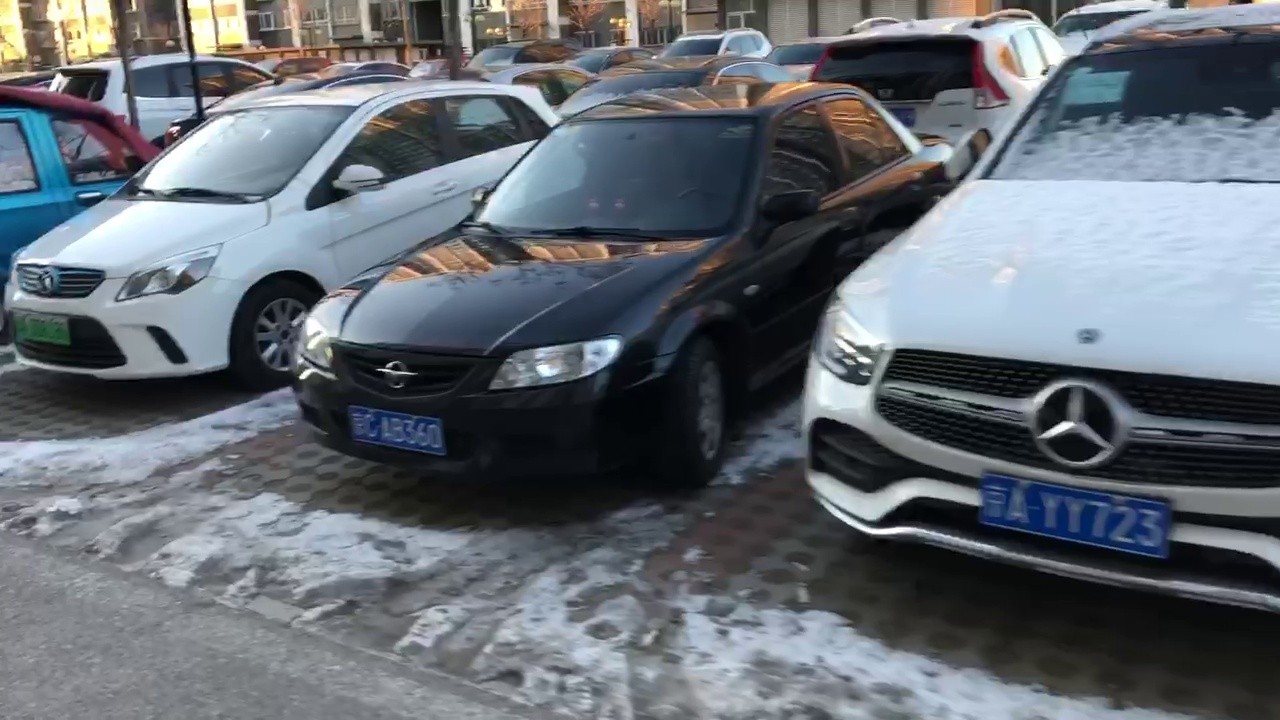plate: (982, 476, 1181, 554), (341, 411, 447, 452), (12, 314, 79, 343)
